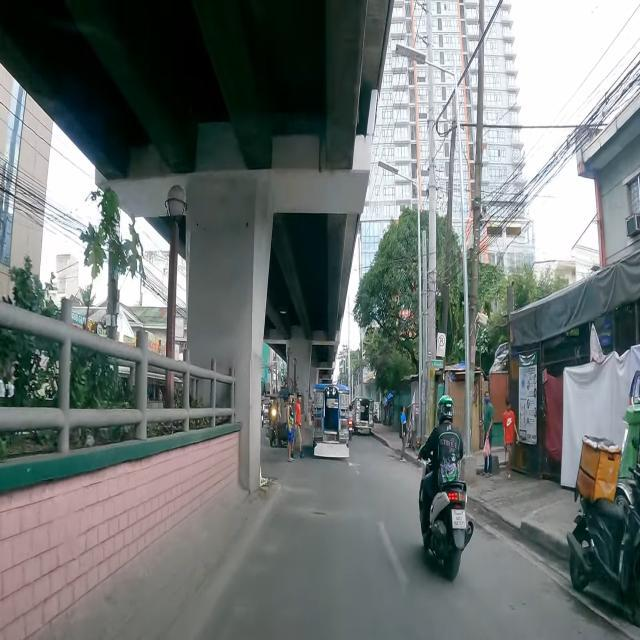jeepney: (313, 383, 350, 458), (352, 396, 374, 434)
motorcycle: (566, 436, 640, 628), (413, 389, 474, 586), (349, 404, 354, 439)
tricycle: (270, 396, 288, 446), (262, 399, 270, 428)
